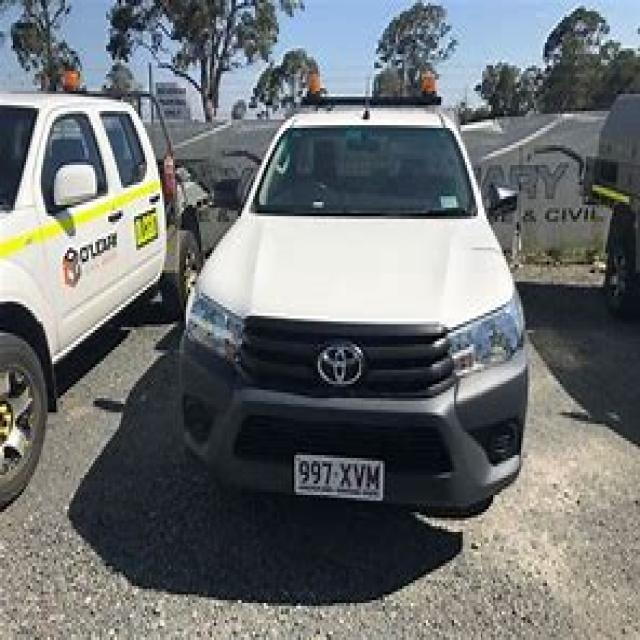light_vehicle: (173, 74, 543, 526)
